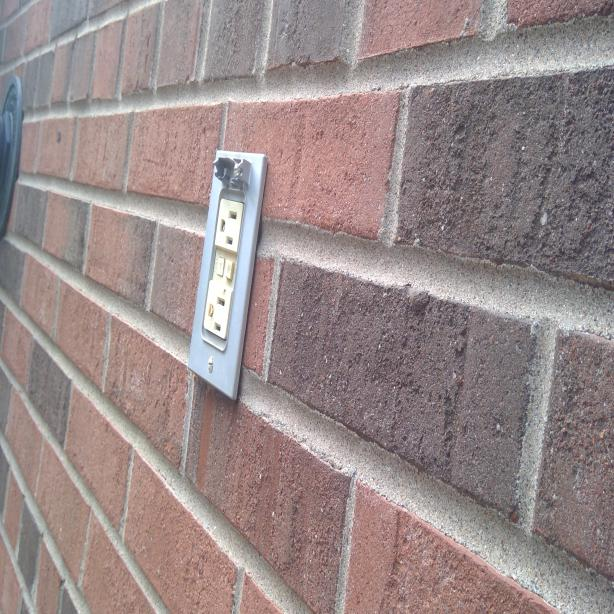typeb: (204, 282, 228, 336), (215, 205, 241, 247)
